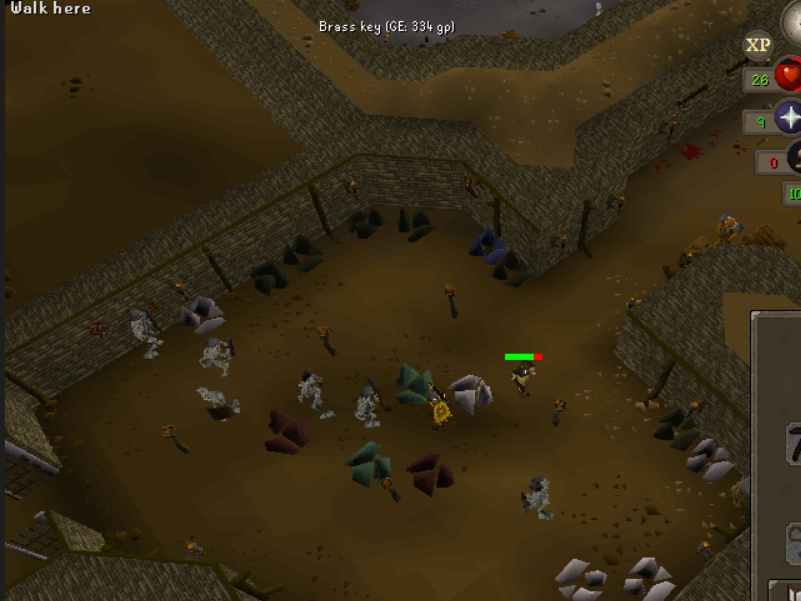adamant: (343, 438, 397, 495), (392, 357, 440, 410)
coal: (651, 405, 703, 456), (277, 232, 329, 276), (342, 199, 386, 244), (247, 254, 291, 299), (394, 202, 438, 245), (490, 247, 534, 290)
iron: (259, 405, 315, 459), (402, 447, 458, 501)
silver: (446, 369, 500, 419), (622, 551, 676, 601), (555, 551, 609, 601)
tin: (177, 293, 232, 339), (685, 436, 740, 482)
